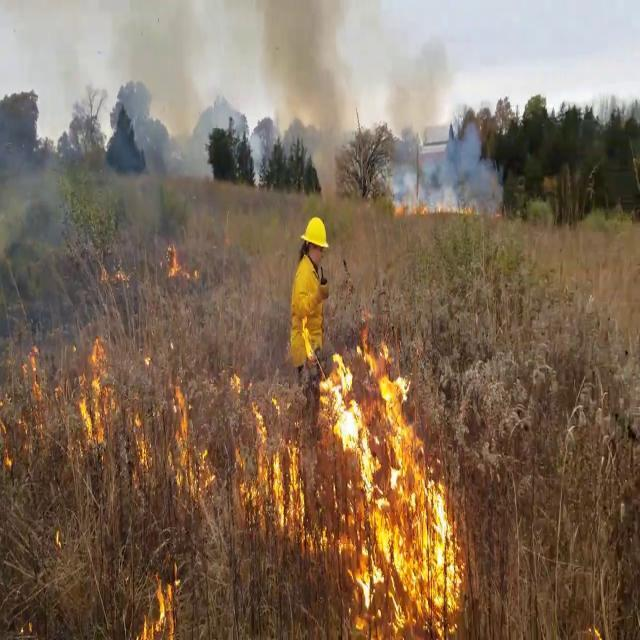Fire: (321, 320, 462, 630), (237, 379, 306, 538), (164, 370, 216, 506), (75, 328, 116, 453), (17, 338, 50, 449), (139, 570, 179, 640), (164, 234, 182, 280)
Smoke: (260, 0, 356, 204), (111, 0, 219, 180), (390, 111, 504, 220)
